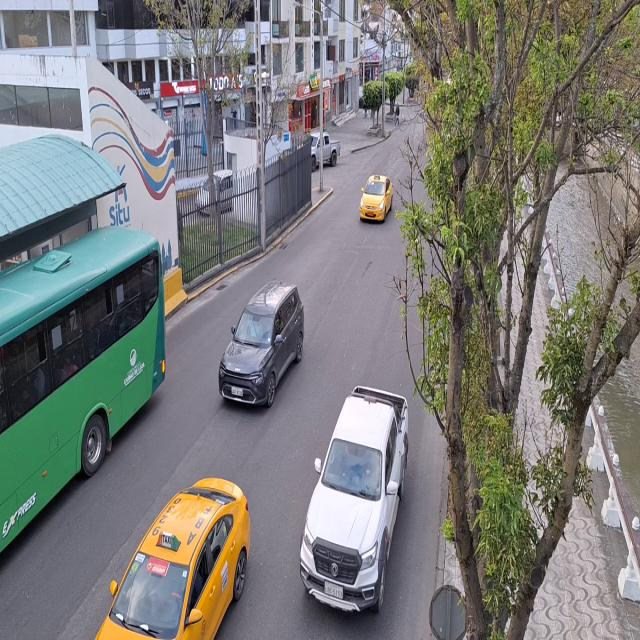BUS: (0, 233, 154, 590)
CMT: (301, 384, 412, 607)
SED: (93, 477, 252, 639), (359, 173, 394, 224)
SUV: (218, 278, 305, 409)
